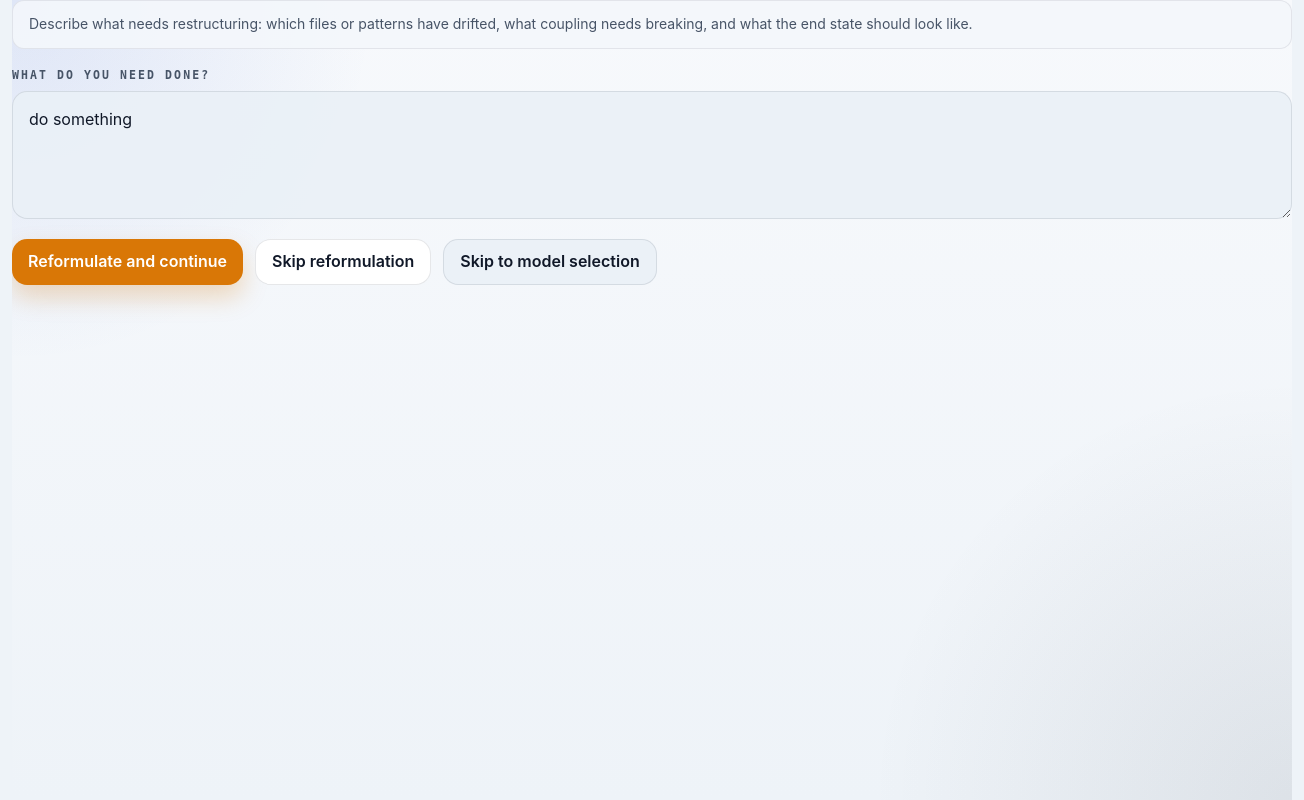
Test case: IntentStage › shows error inline when reformulation fails, stays on write step
Click the button "Reformulate and continue". click: (128, 262)
box: [12,239,243,285]
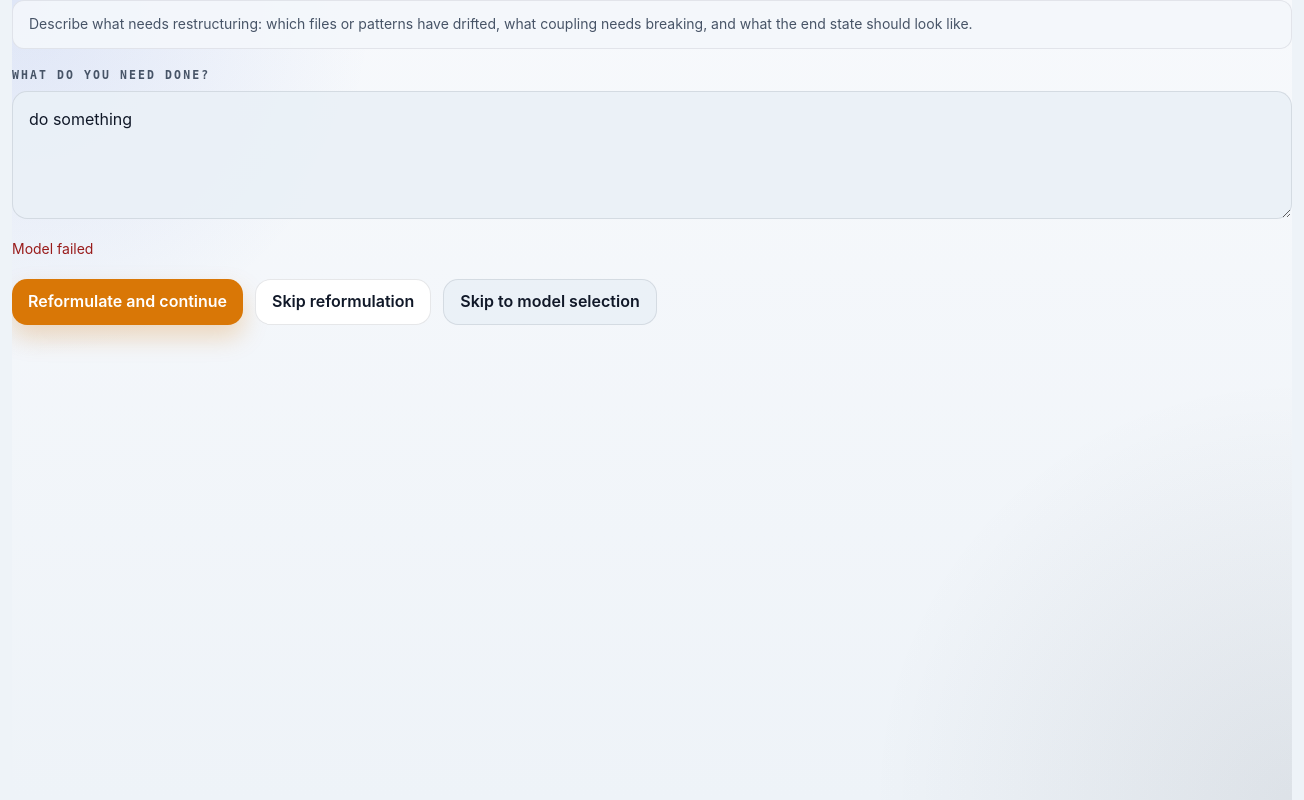
Expected: the text box labelled "What do you need done?" is shown, [12,91,1292,219]
Now the text "Model failed" is shown, box [12,240,94,257]
